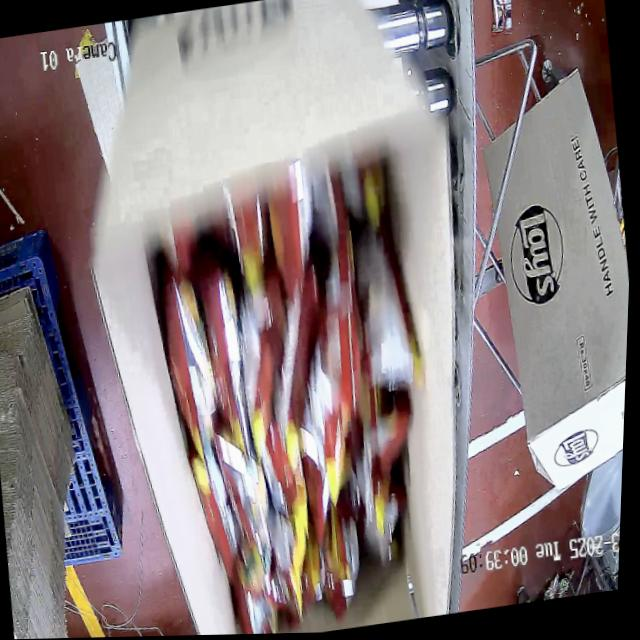MASALA: (127, 138, 456, 637)
